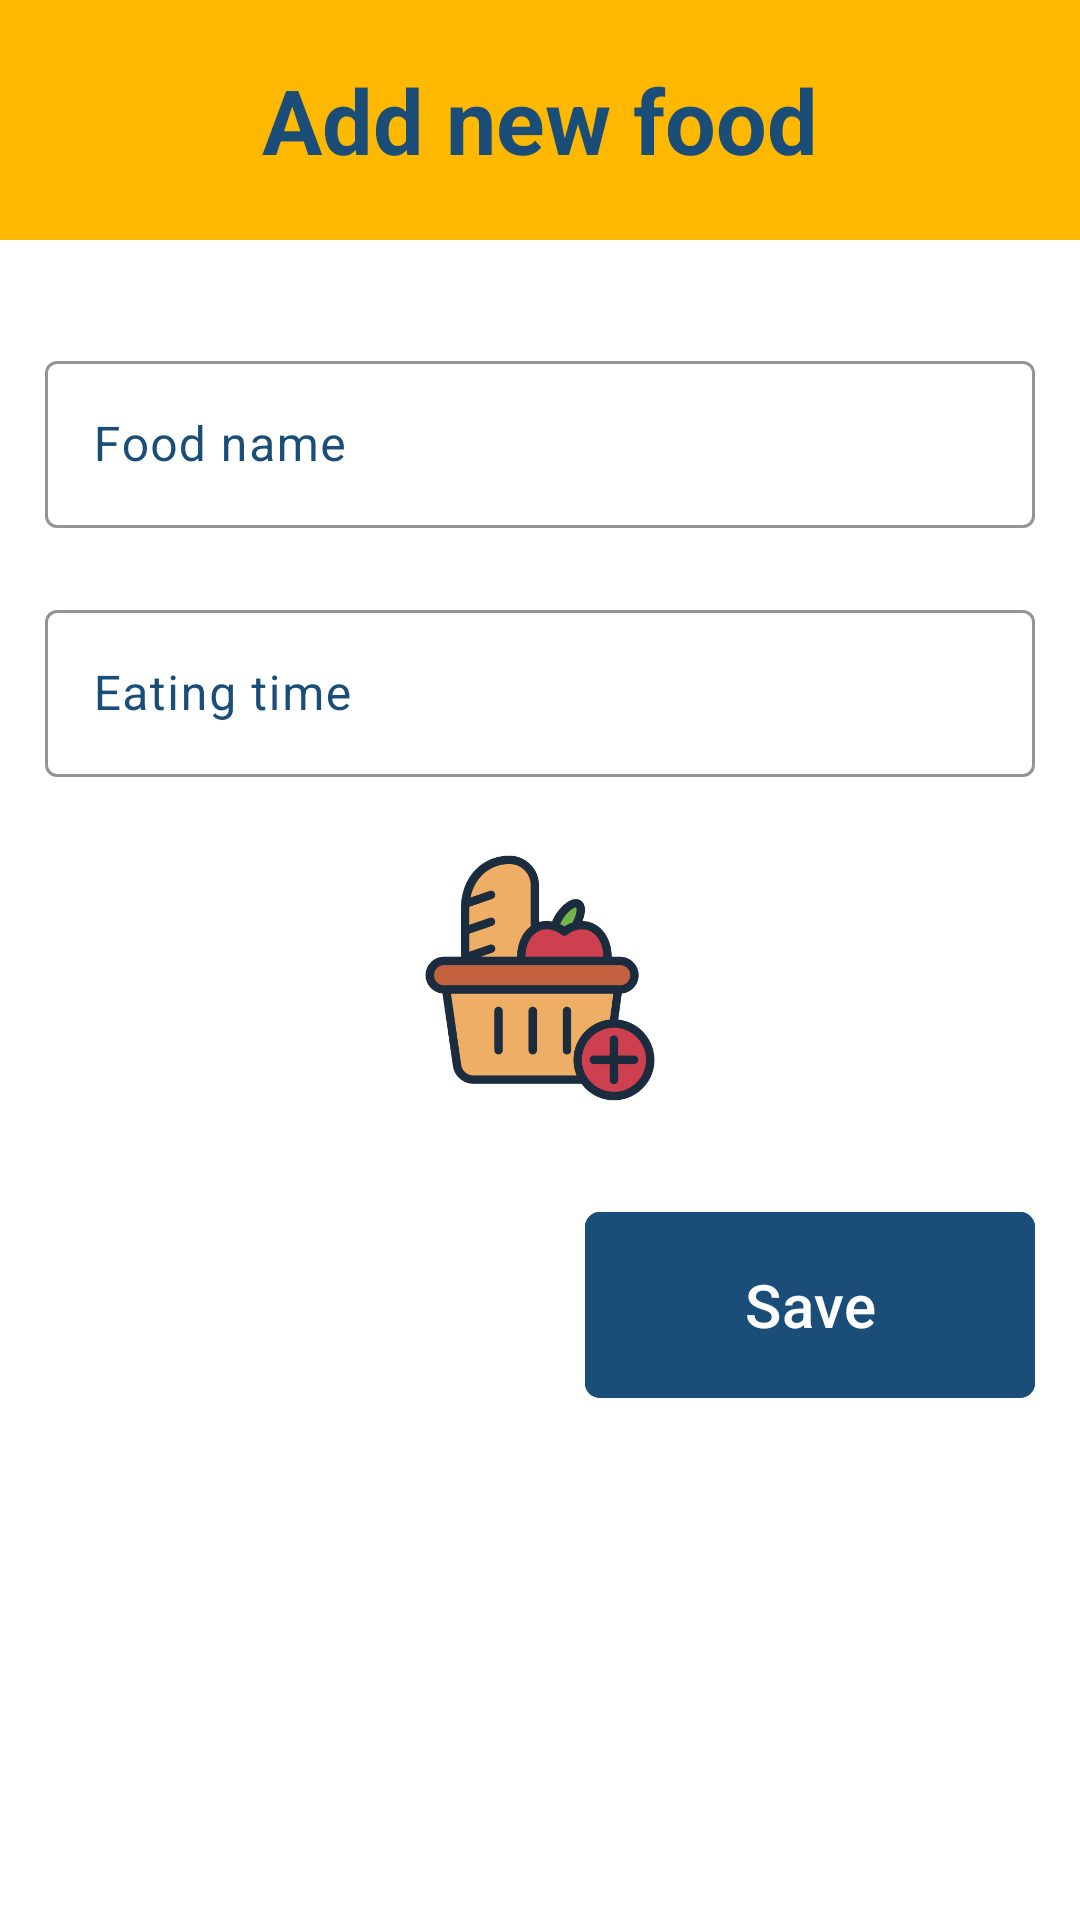

Icon bounding boxes for this 1080x1920 phone screenshot, format [x1, y1, x2, y2]:
food add: [425, 855, 655, 1101]
